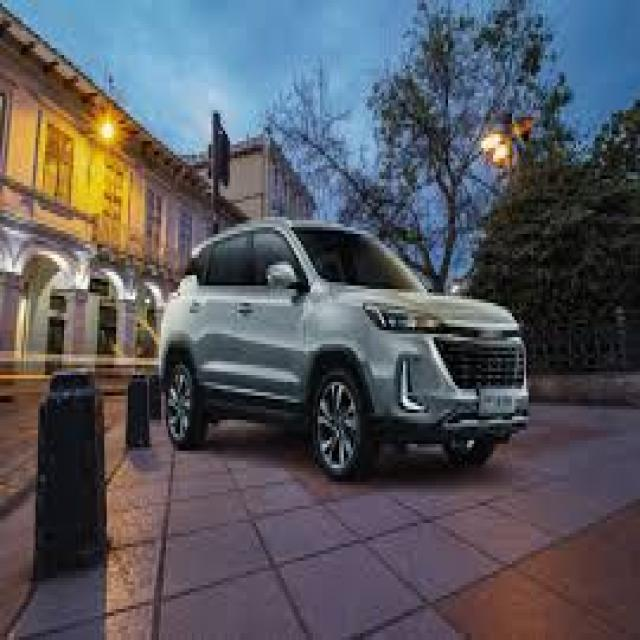SUV: (162, 225, 535, 480)
